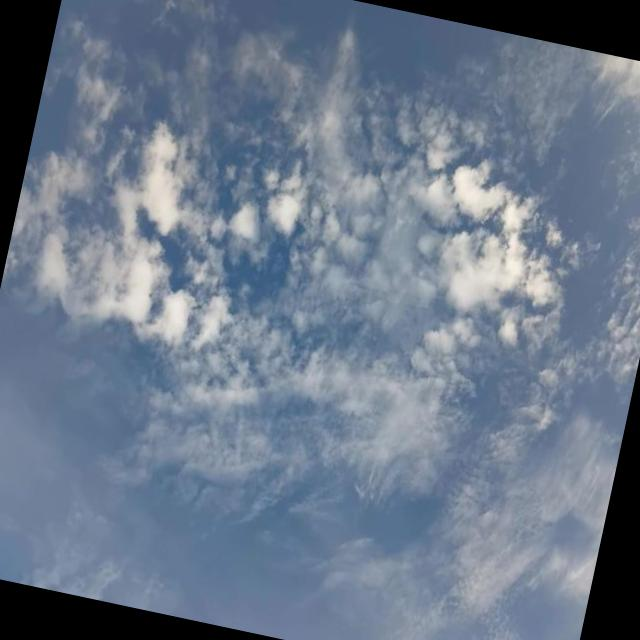altocumulus: (24, 49, 561, 468)
